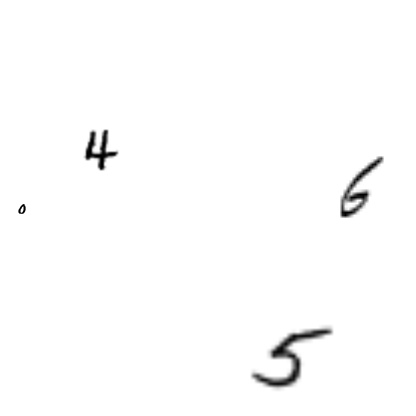4: (366, 338, 388, 360)
5: (131, 227, 215, 311)
7: (152, 113, 264, 225), (19, 217, 103, 301)
Sandal: (51, 87, 93, 129)
Shirt: (152, 31, 180, 59)
Trouser: (310, 352, 338, 380)
